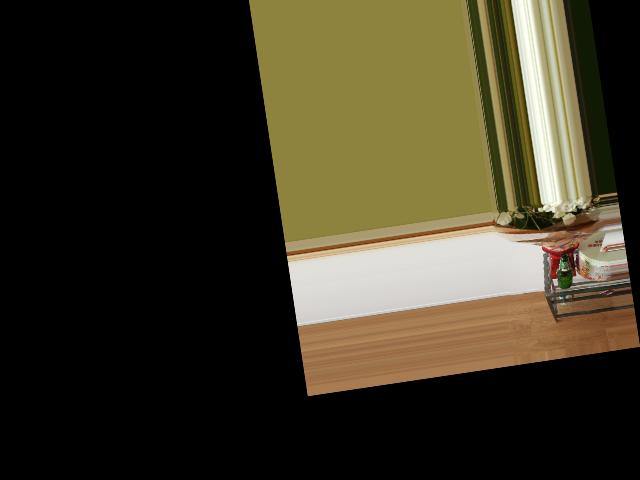beer: (553, 253, 576, 290)
